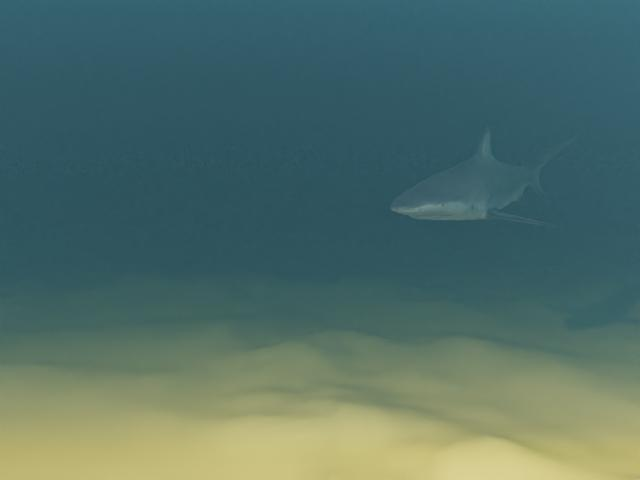Carribean Shark.001: (390, 124, 586, 228)
